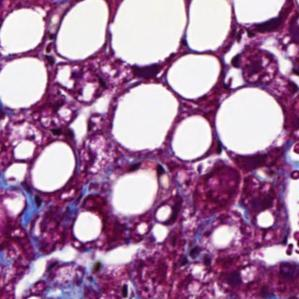inflammation: (174, 242, 215, 273), (151, 194, 186, 225)
